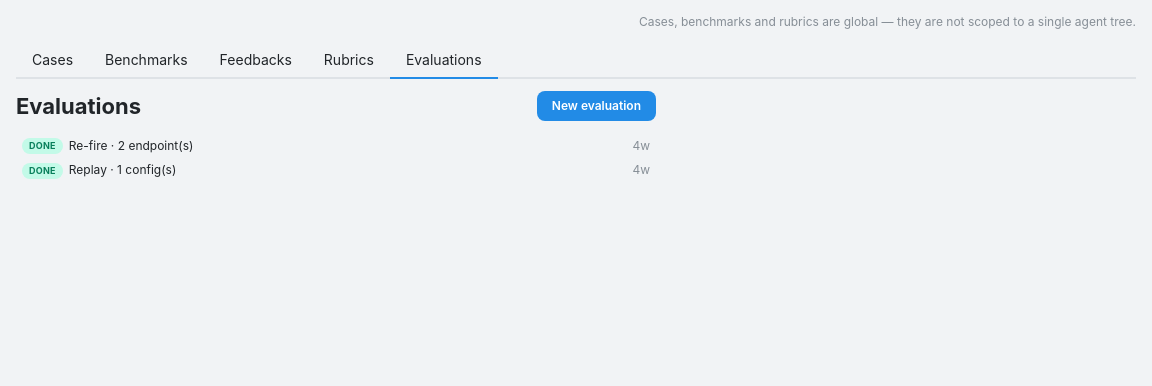
EvaluationsPage — stepper › gates Configure until the selection is non-empty
Click the button "New evaluation" at [596, 106], box [537,91,656,121]
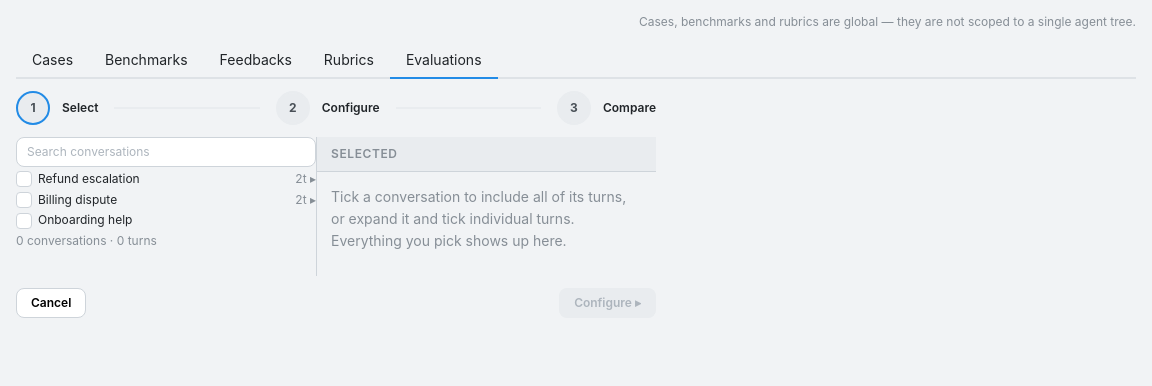
Expected: the text "Refund escalation" is shown, [38,171,140,188]
Expected: the button "Configure ▸" is disabled, [559,288,656,318]
Click the checkbox named "Select Refund escalation" at [24, 179], box [16,171,32,187]
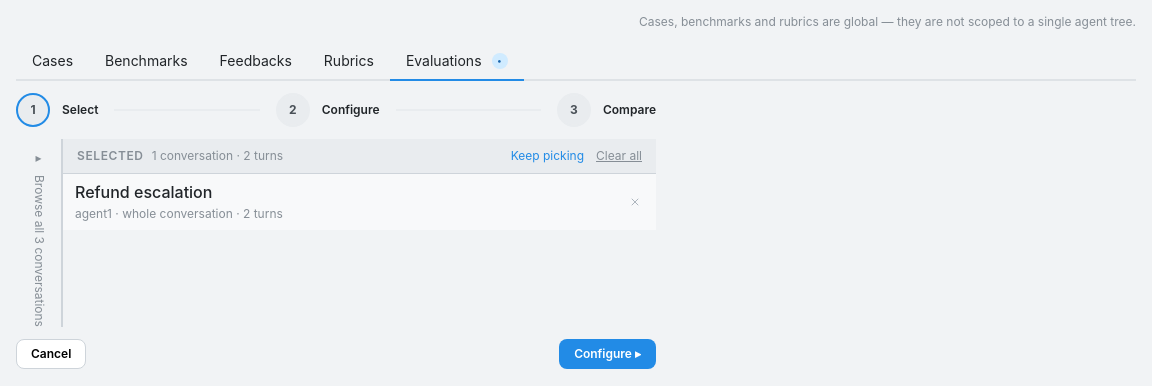
Expected: the button "Configure ▸" is enabled, [559,339,656,369]
Click the button with test id "browse-ribbon" at [39, 233], box [16,139,62,327]
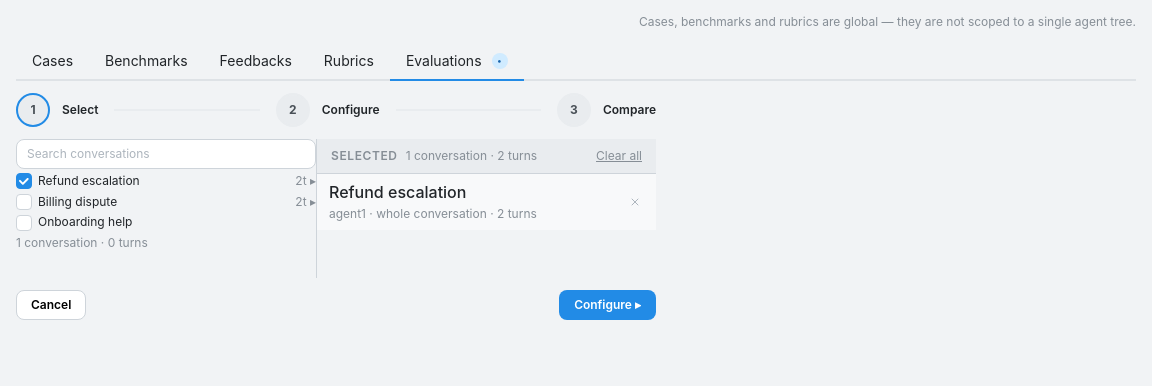
Click the checkbox named "Select Refund escalation" at [24, 181], box [16,173,32,189]
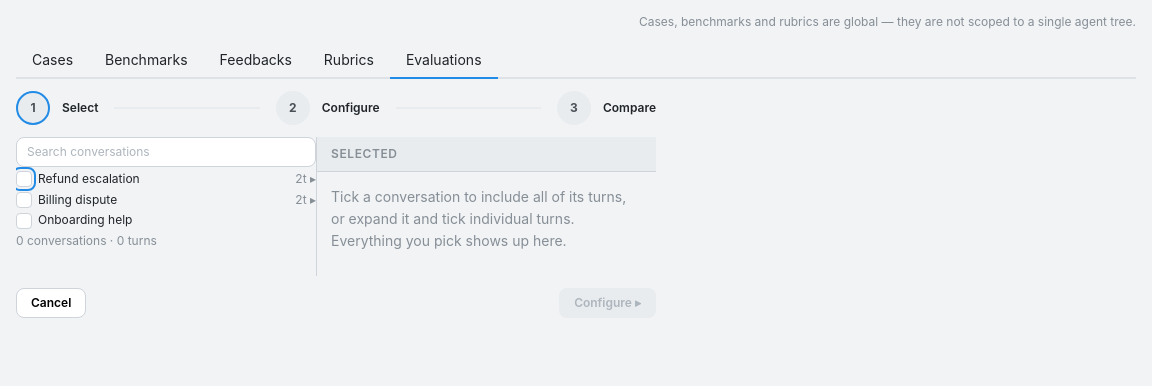
Expected: the button "Configure ▸" is disabled, [559,288,656,318]
